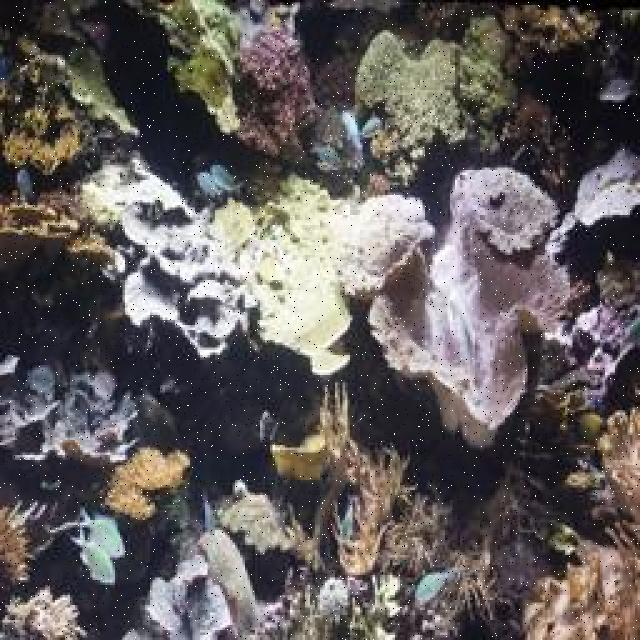fish: (67, 526, 117, 582), (81, 513, 124, 556)
reefs: (369, 167, 571, 445), (352, 4, 599, 200), (208, 174, 439, 373), (74, 157, 258, 357)
